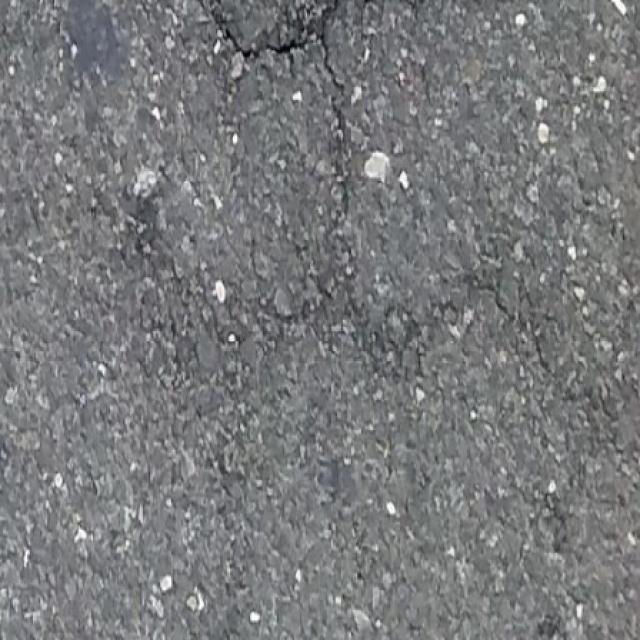Alligator Crack: (119, 0, 640, 498)
